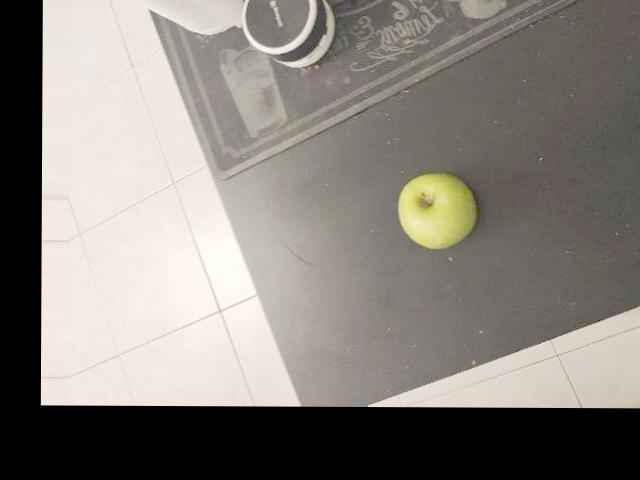apple: (390, 147, 511, 245)
